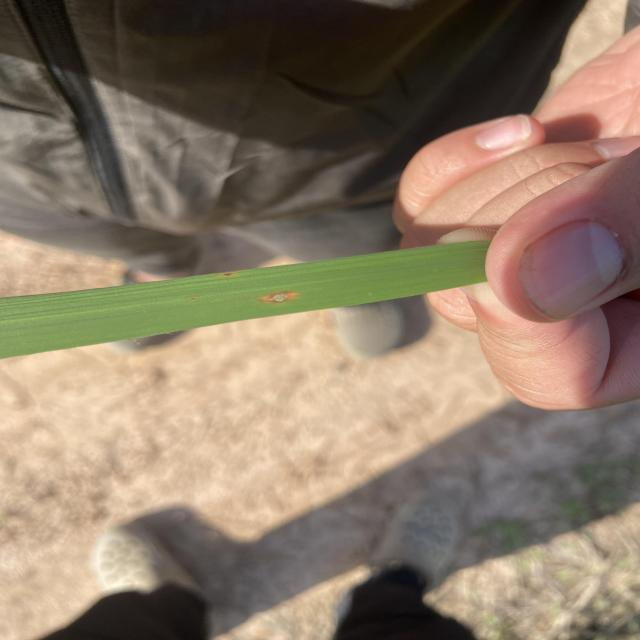Dao on: (265, 293, 294, 303)
